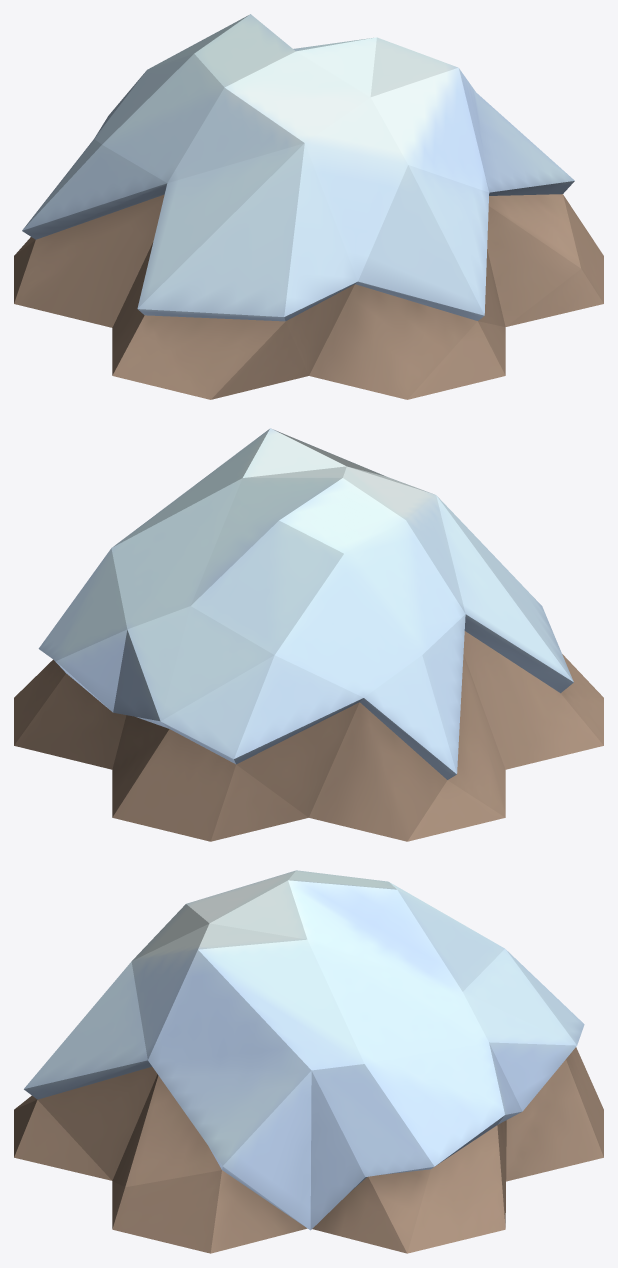
The model's file is RocherNeige_F.FBX.
The picture shows the model from 3 angles, top to bottom: view 1: azimuth 30°, elevation 25°; view 2: azimuth 150°, elevation 25°; view 3: azimuth 270°, elevation 25°; orthographic projection.
Parts seen in each view (by area): view 1: RocherNeige_F; view 2: RocherNeige_F; view 3: RocherNeige_F.
Boxes of the visible parts, bbox=[...] form: RocherNeige_F: bbox=[14, 14, 603, 399]; RocherNeige_F: bbox=[14, 428, 603, 841]; RocherNeige_F: bbox=[14, 870, 603, 1253].
Bounding box in the file's own units: 2.5 × 1.18 × 2.6.
